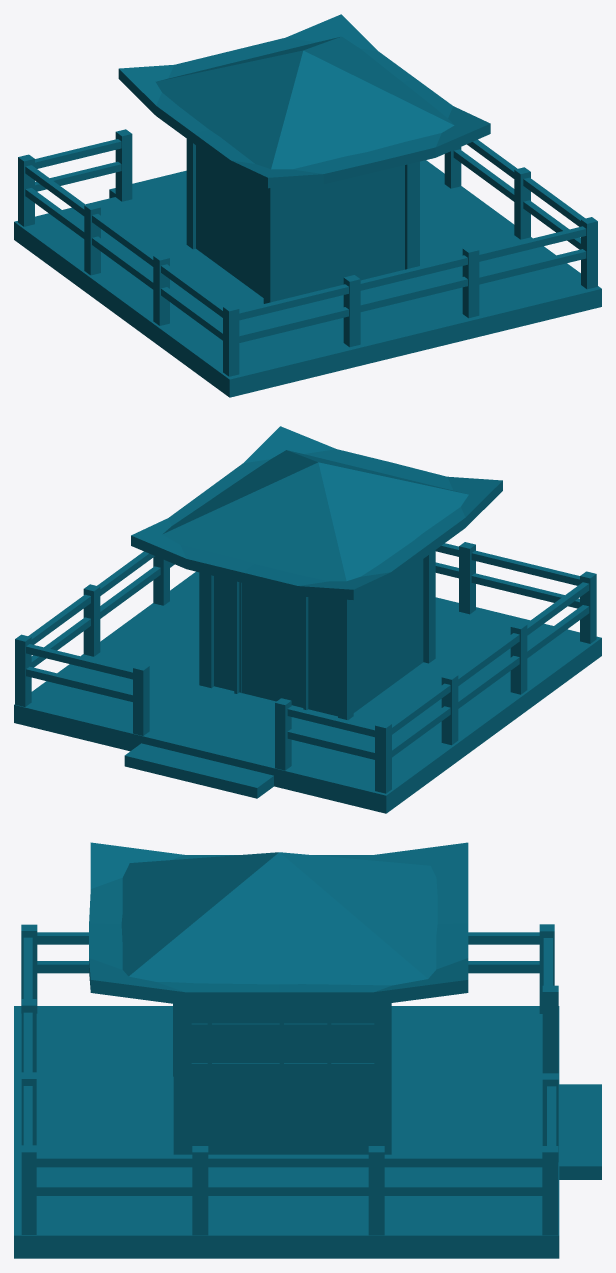
File: Templo_pequeño 1.fbx
The picture shows the model from 3 angles, top to bottom: view 1: azimuth 30°, elevation 25°; view 2: azimuth 150°, elevation 25°; view 3: azimuth 270°, elevation 25°; orthographic projection. The views are drawn at different scales.
Visible parts, largest first — view 1: Object001; view 2: Object001; view 3: Object001.
Boxes of the visible parts, bbox=[...] form: Object001: bbox=[14, 14, 601, 397]; Object001: bbox=[14, 426, 601, 813]; Object001: bbox=[14, 842, 601, 1258].
Size of the model in its own units: 581 by 338 by 628.
